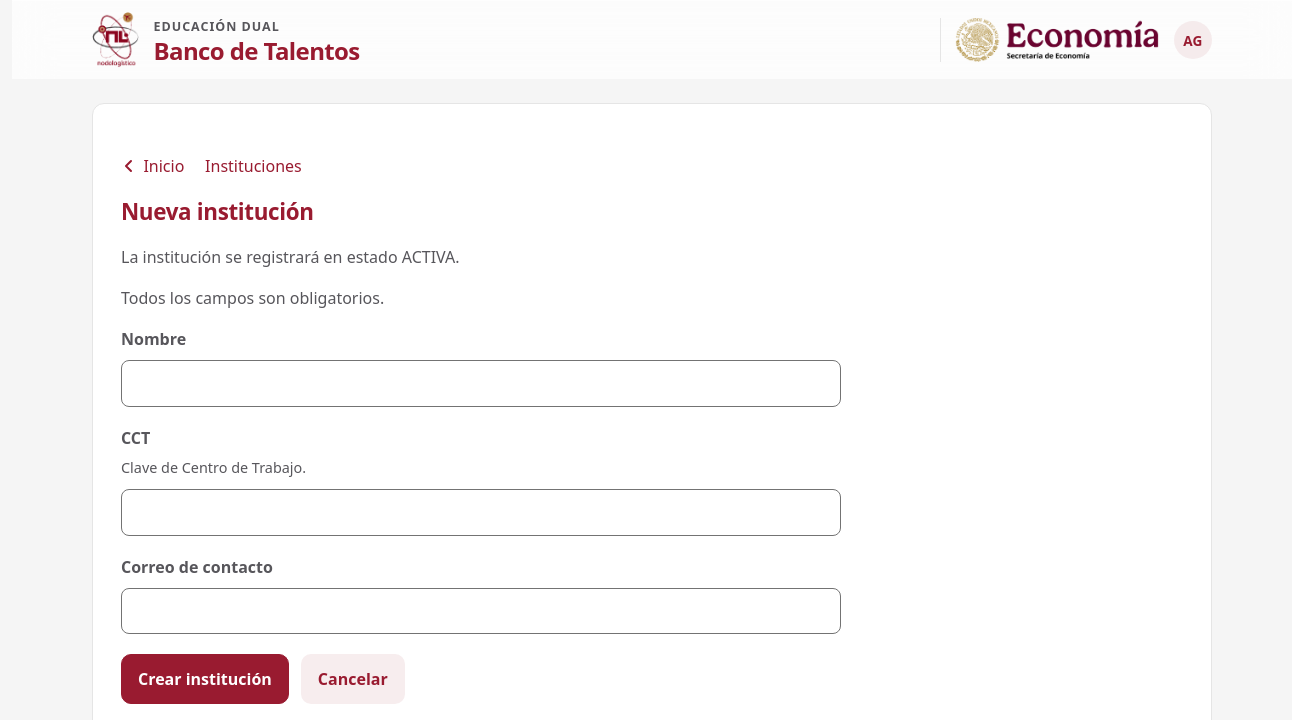
it: registro y edición de instituciones › registra únicamente los campos acordados y muestra el estado activo devuelto por el servidor
Expected: the button "Crear institución" is shown, [121,654,289,704]
In the field labelled "Nombre": coordinates (481, 383) [121,360,841,407], type "Instituto Tecnológico del Norte"
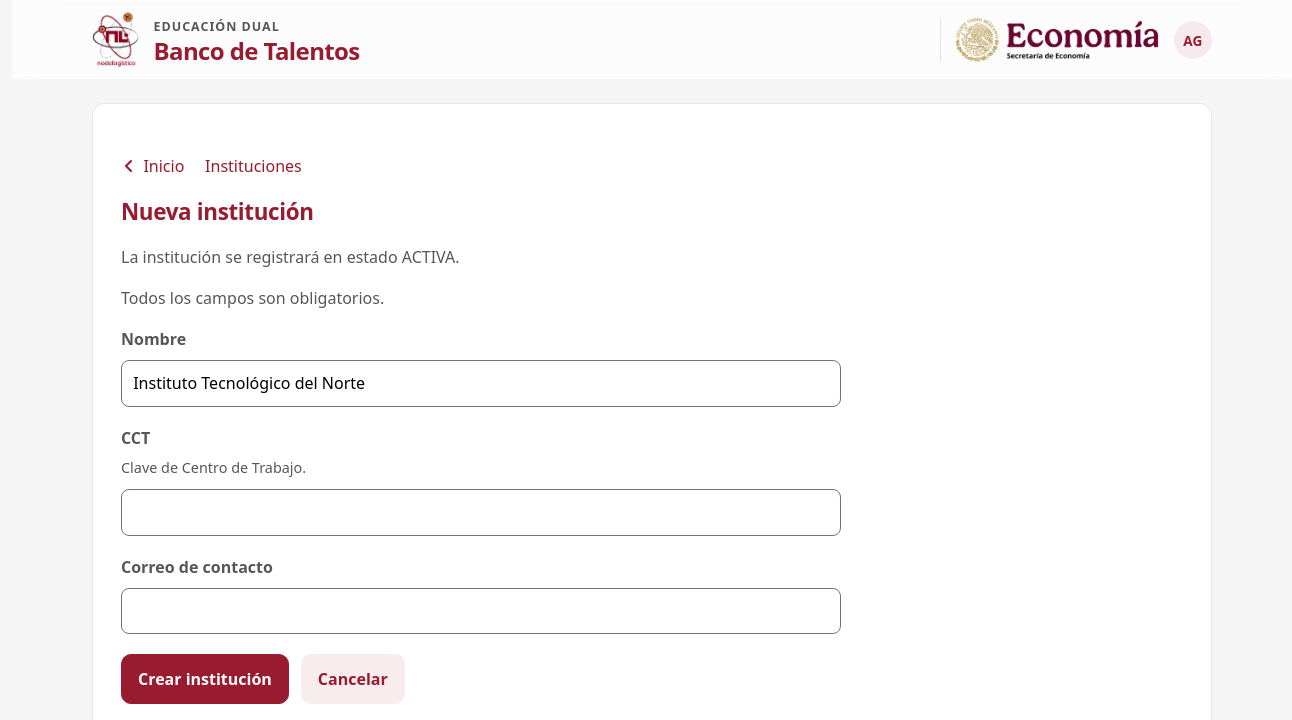
In the field labelled "CCT": coordinates (481, 512) [121,489,841,536], type "19EIT0001A"
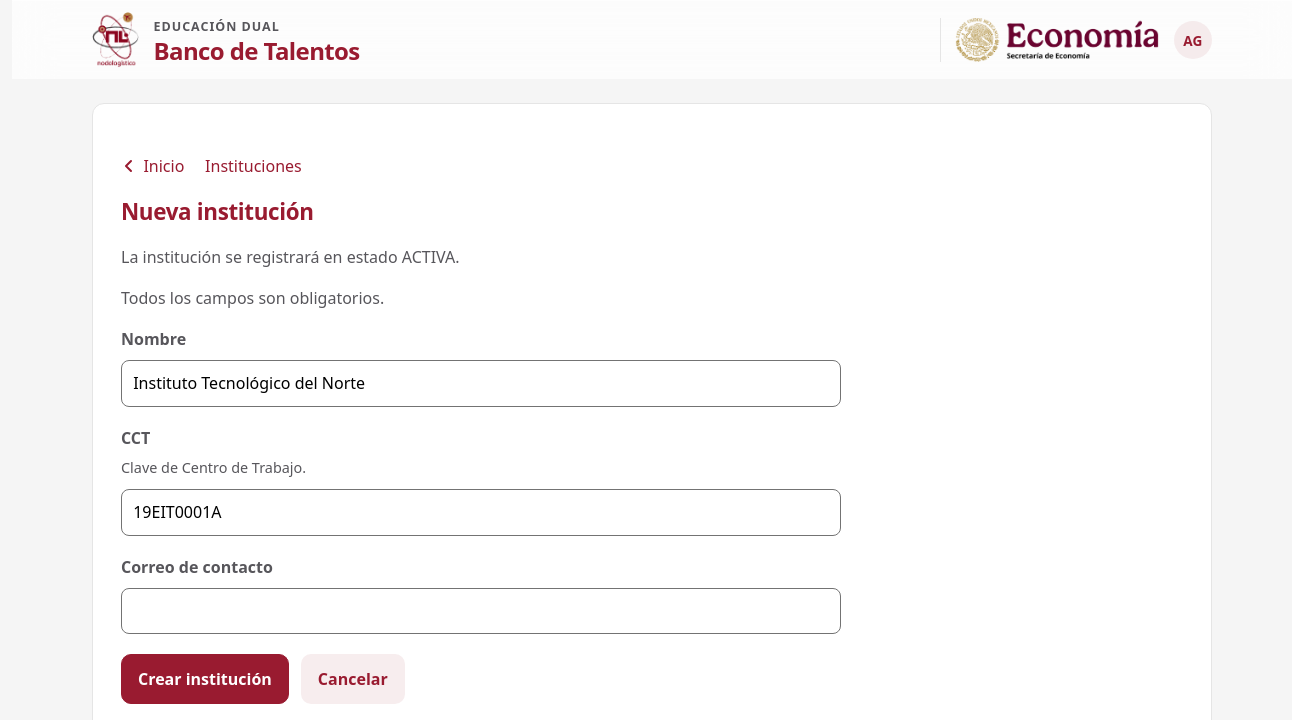
In the field labelled "Correo de contacto": coordinates (481, 611) [121,588,841,634], type "contacto@example.test"
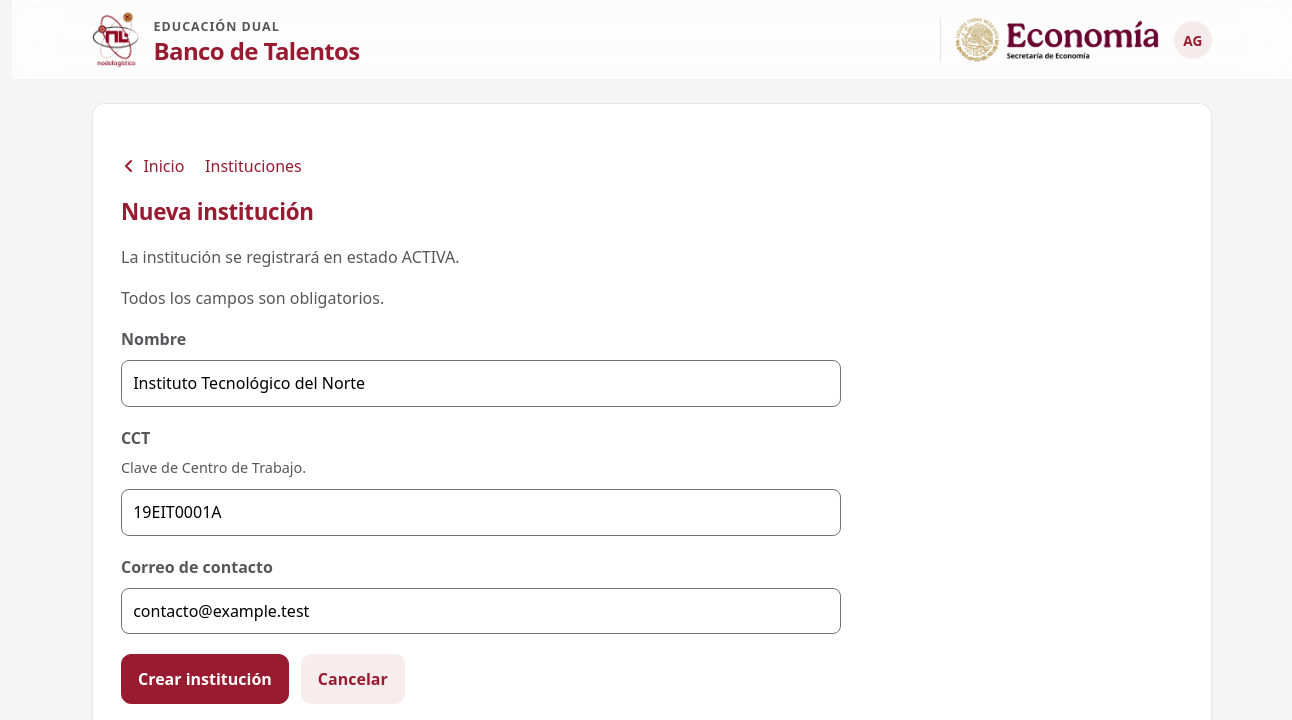
Click the button "Crear institución": coordinates (205, 679) [121,654,289,704]
(page scrolled)
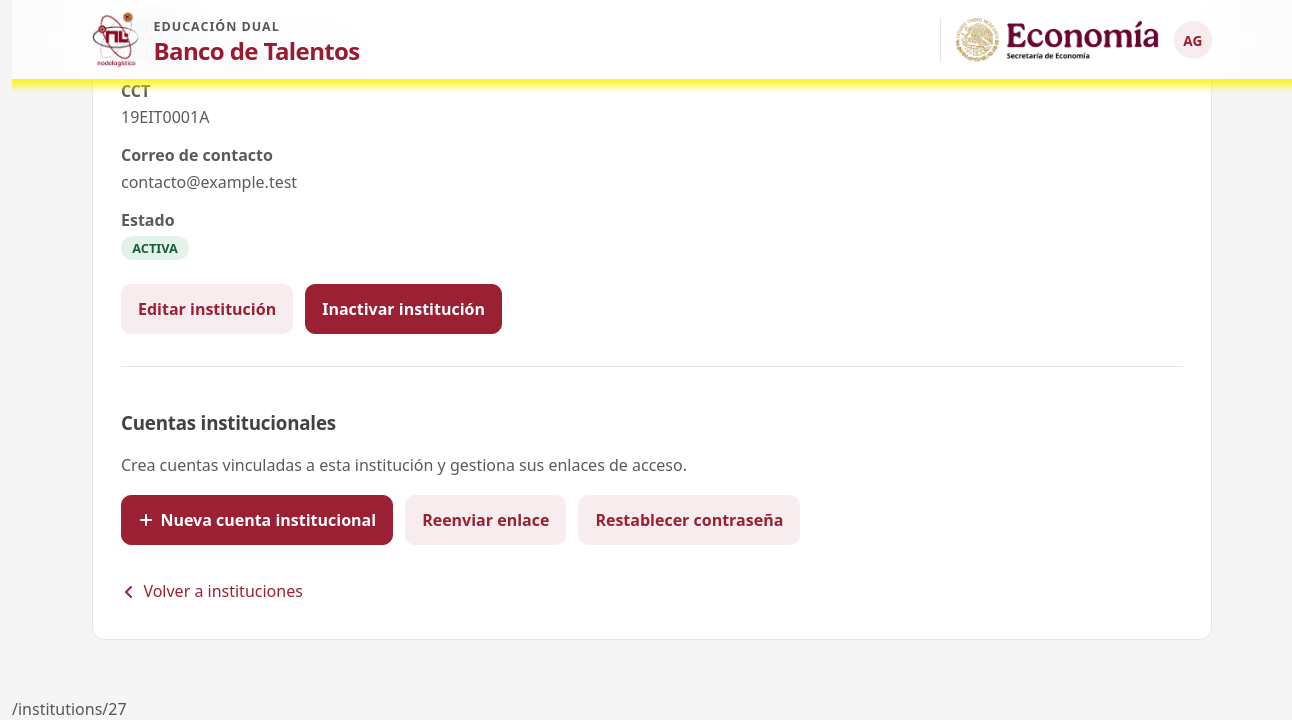
Expected: the text "Instituto Tecnológico del Norte" is shown, [121,42,353,64]
Result: the text "ACTIVA" is shown at [121,236,189,260]
Result: the text named "Ruta actual" reads "/institutions/27" at [12,698,127,719]
